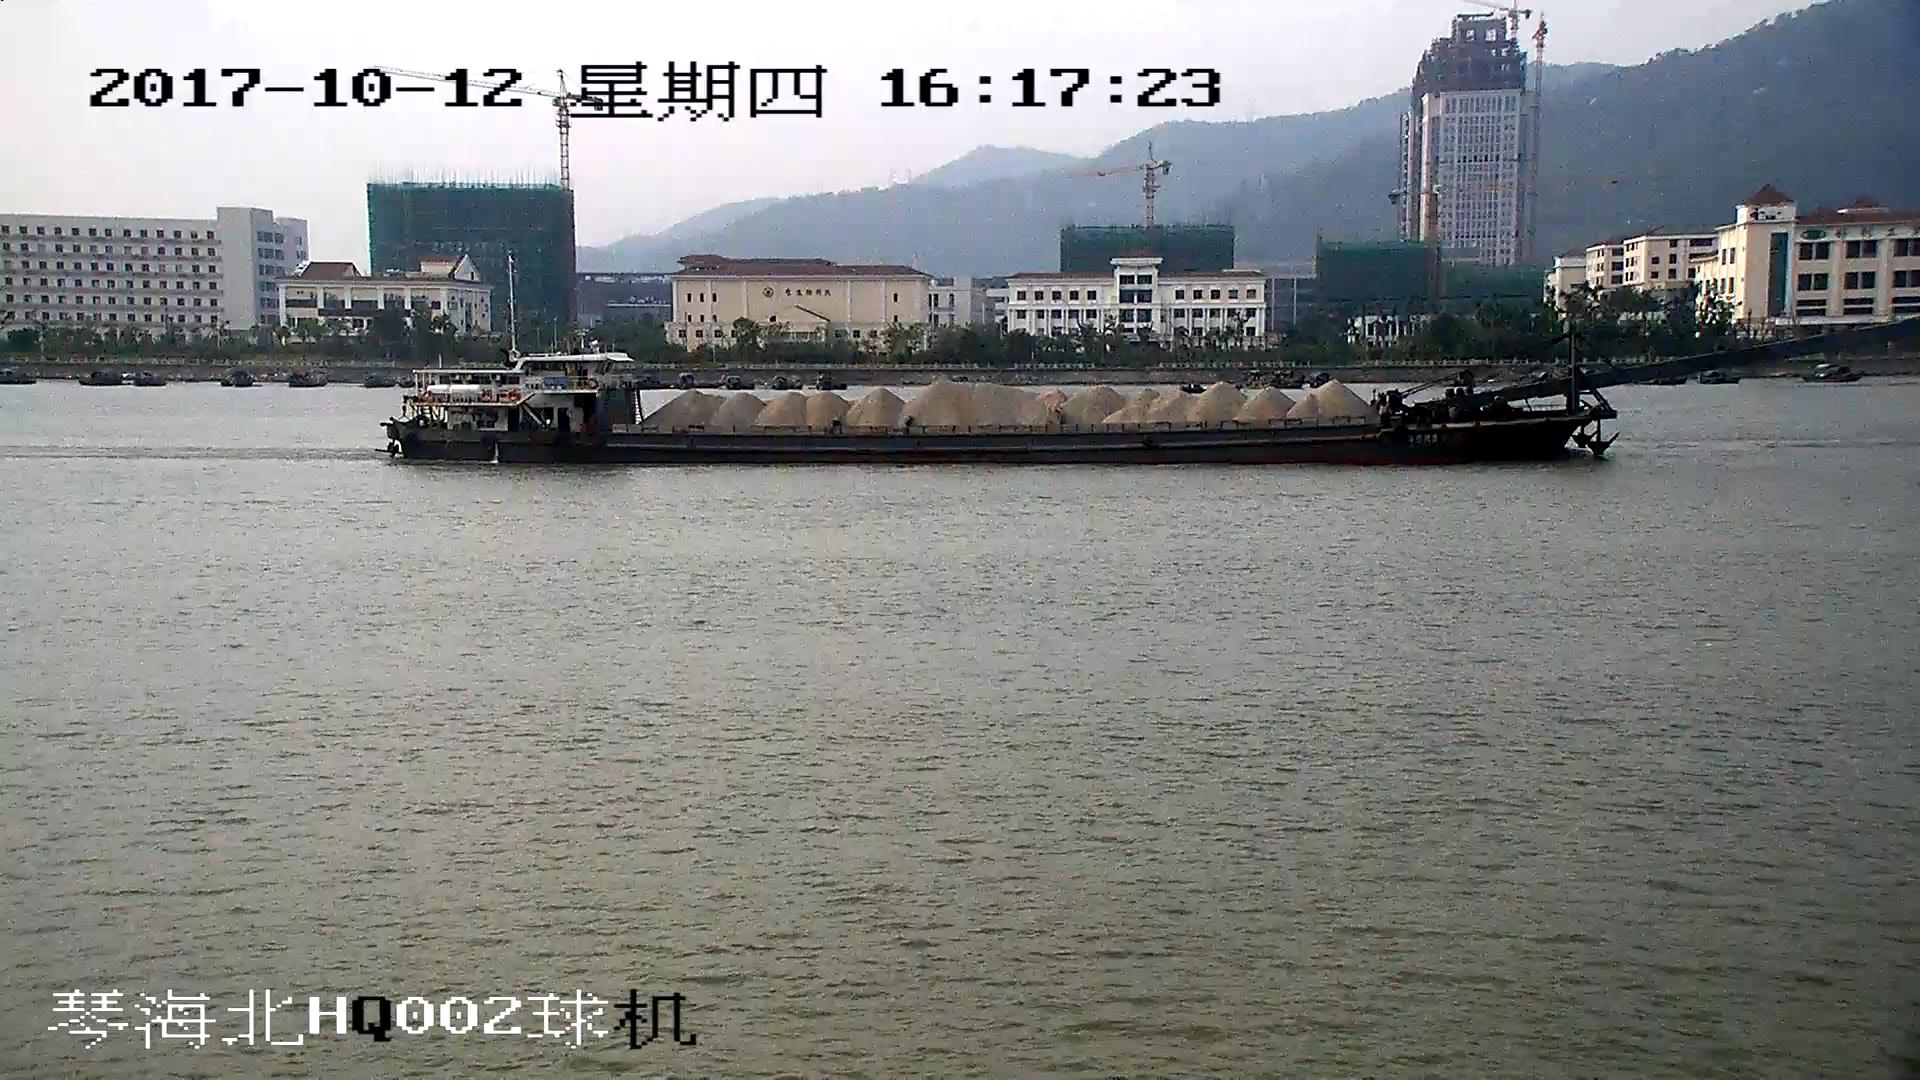ore carrier: (394, 309, 1920, 464)
